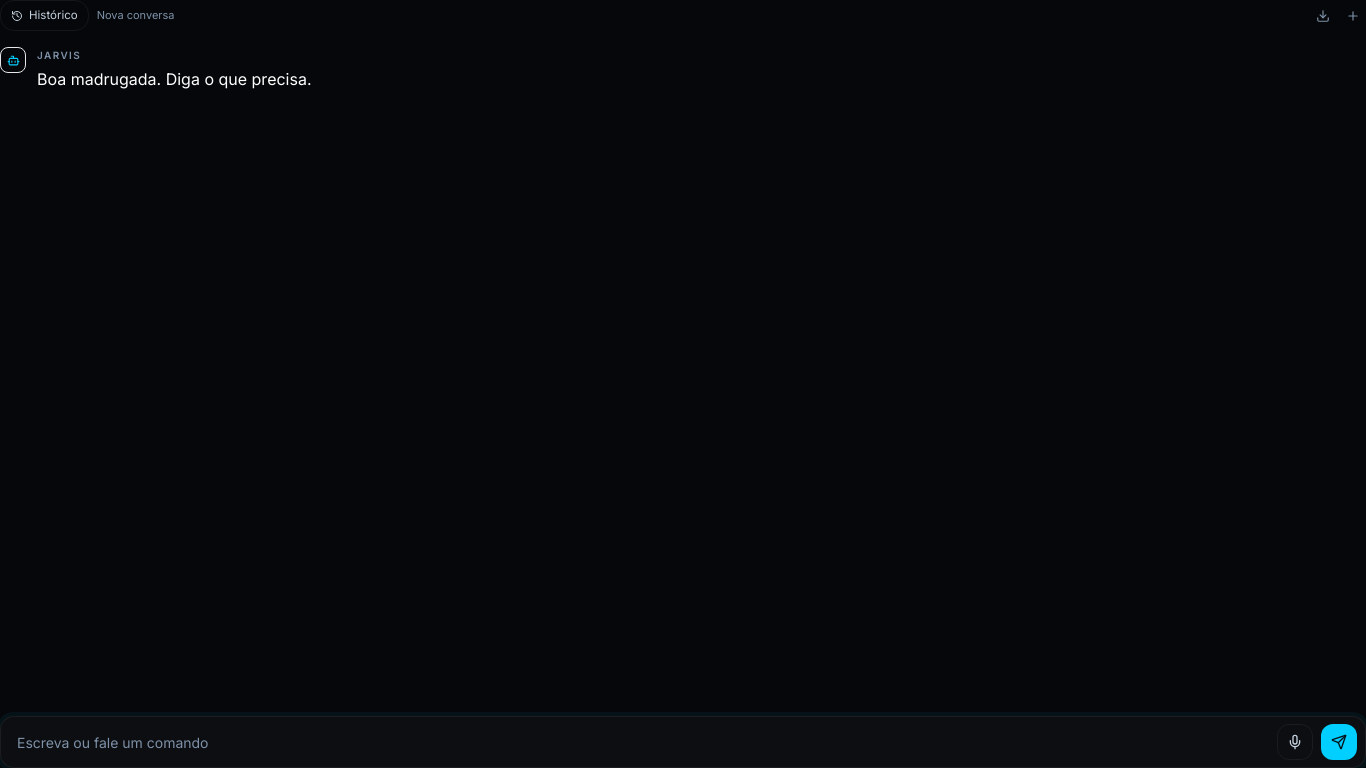
histórico › uma conversa nova deixa a anterior no histórico
In the field named "Comando para o assistente": coordinates (643, 742) [17,732,1269,752], type "abre os emails"
Then press Enter
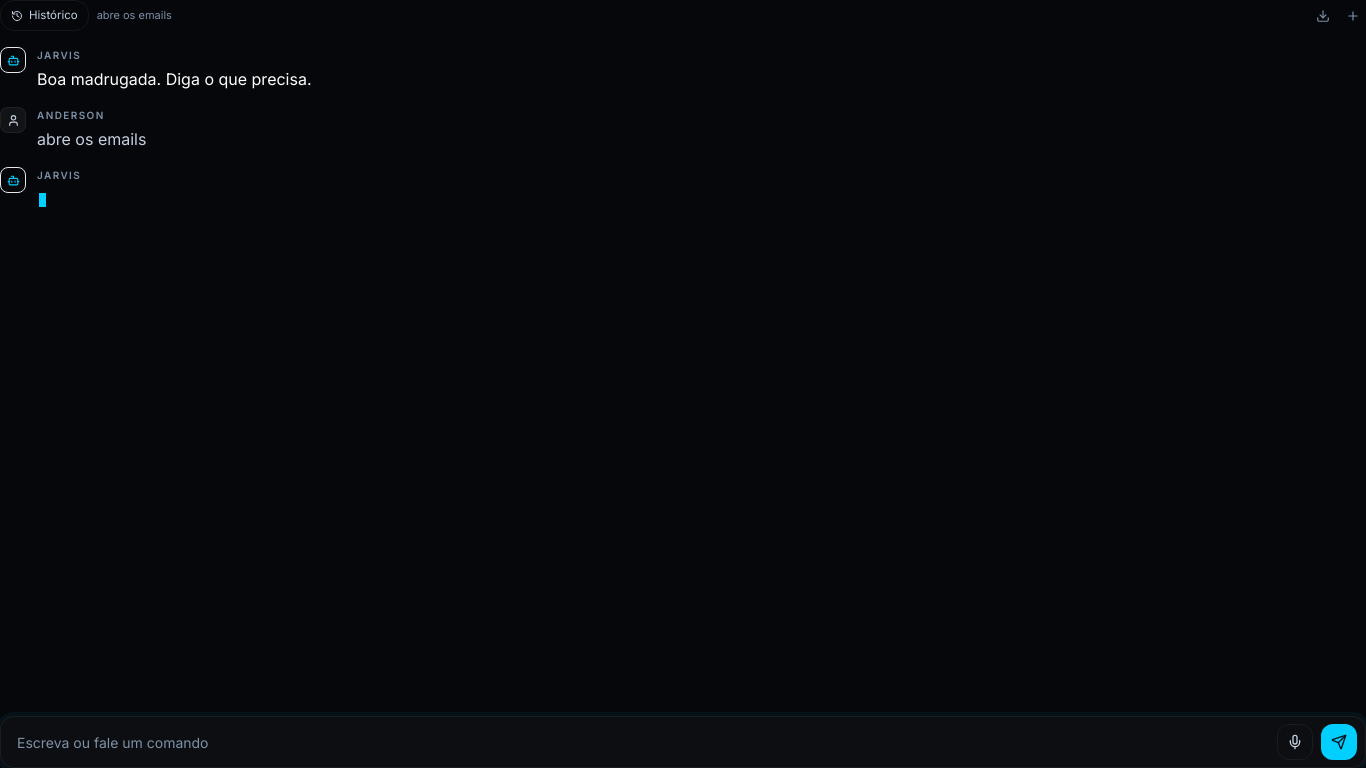
Expected: the text "abre os emails" below "Anderson" is shown, [37,129,146,149]
Click the button named "Nova conversa": coordinates (1353, 16) [1340,3,1365,29]
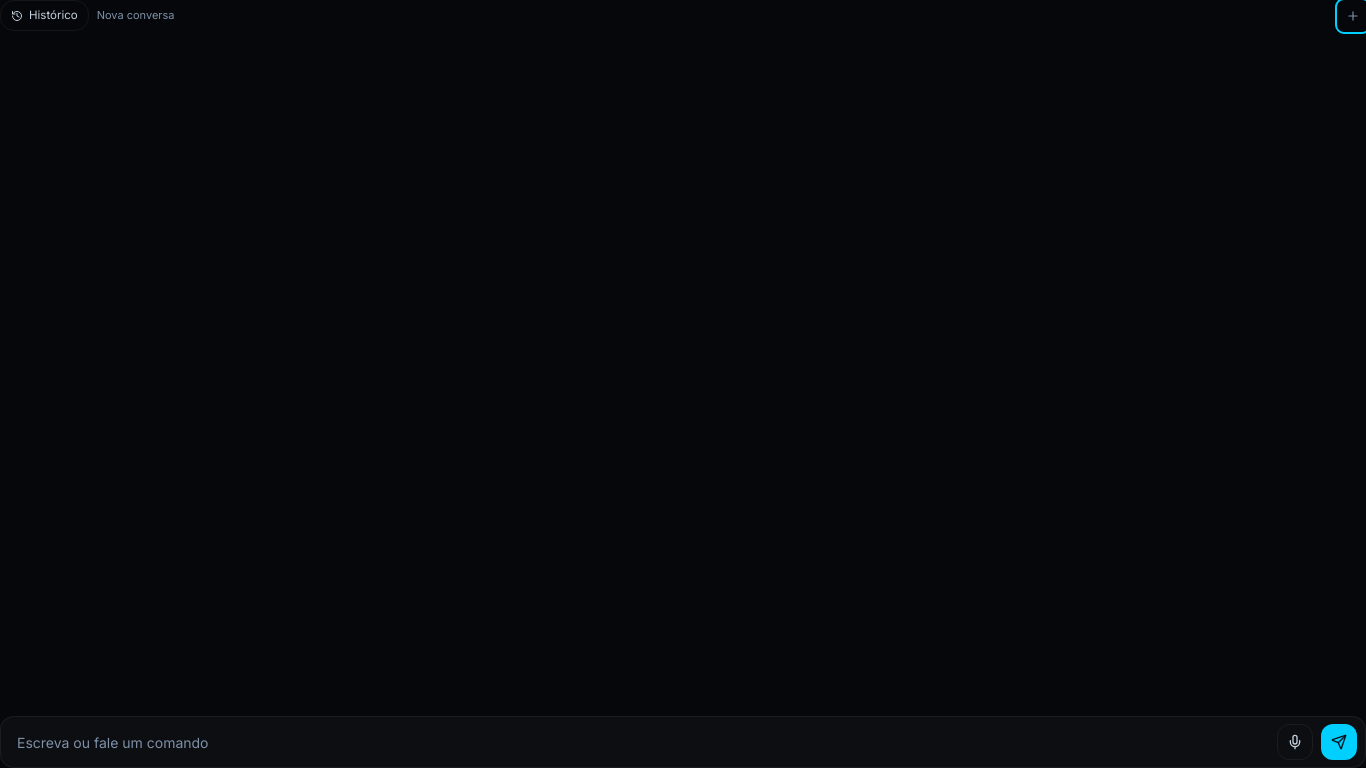
Click the button with aria-label "Histórico de conversas": coordinates (44, 16) [0,0,89,31]
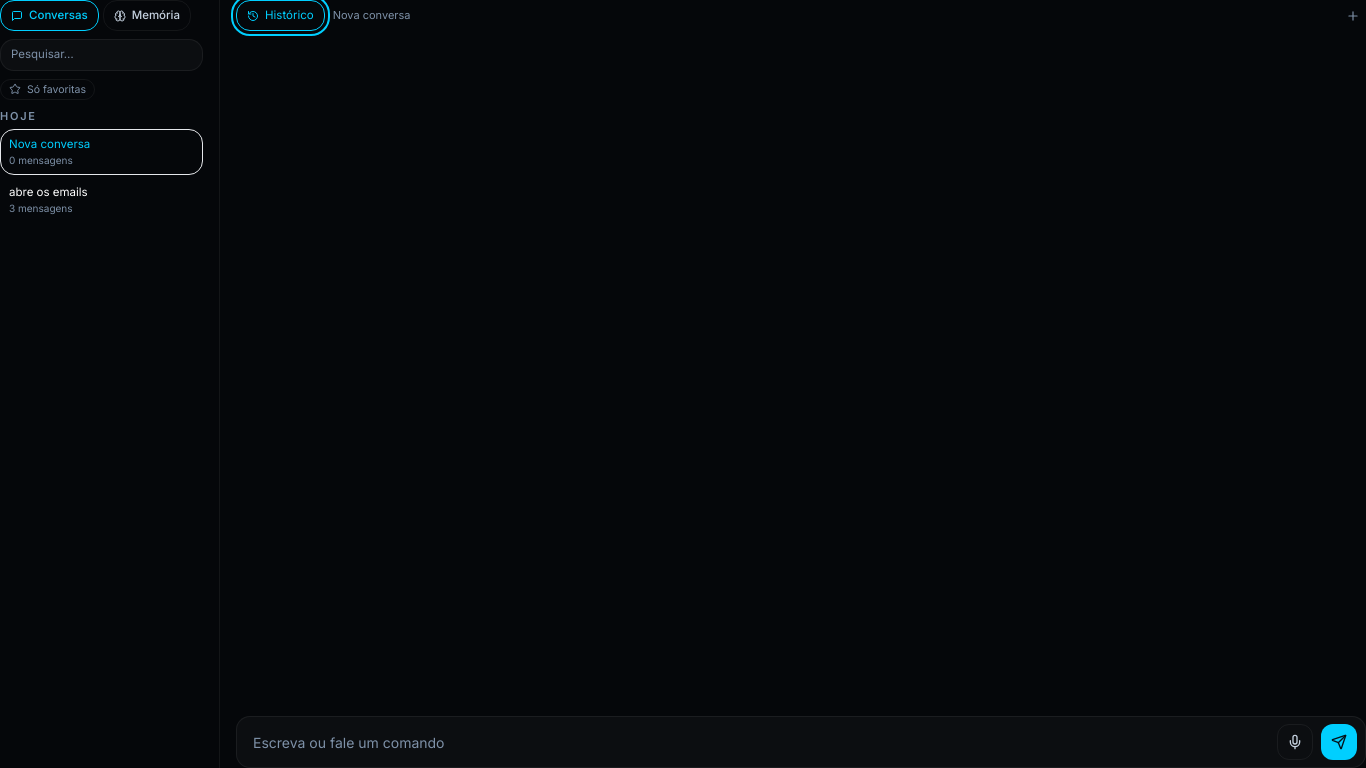
Expected: the text "abre os emails" is shown, [9,185,88,199]
